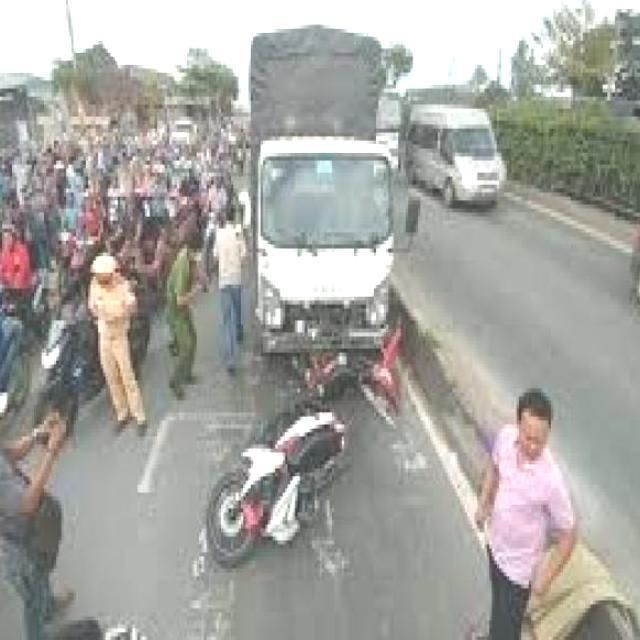accident: (207, 243, 434, 605)
